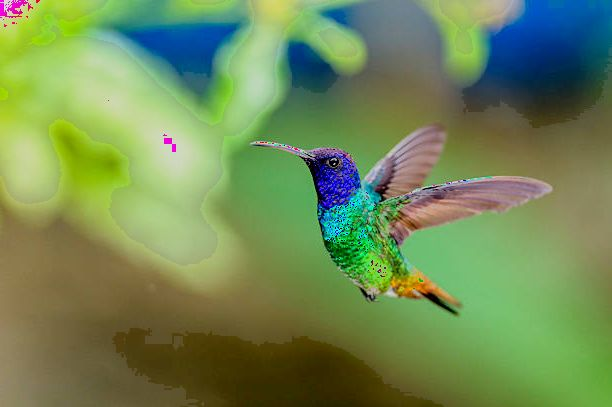Bird: (247, 119, 556, 321)
